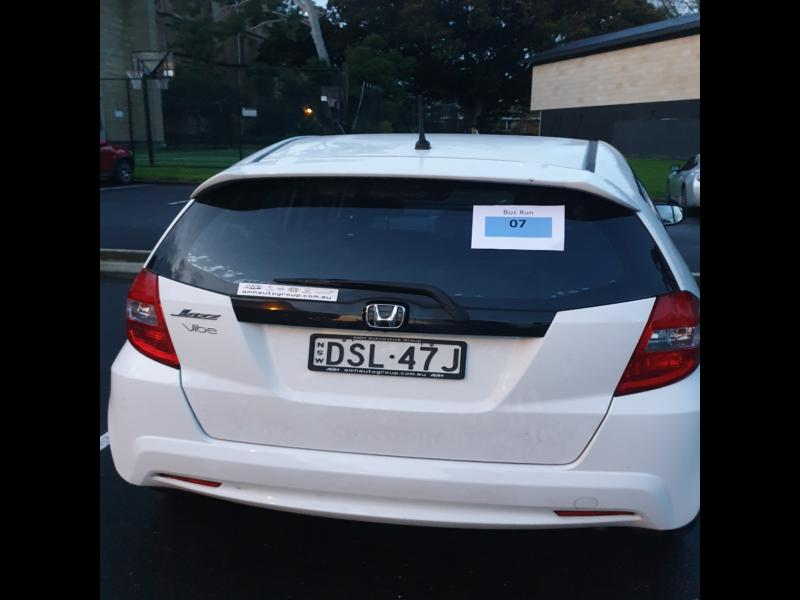BusRun: (485, 214, 554, 240)
PlateNo: (310, 334, 464, 377)
